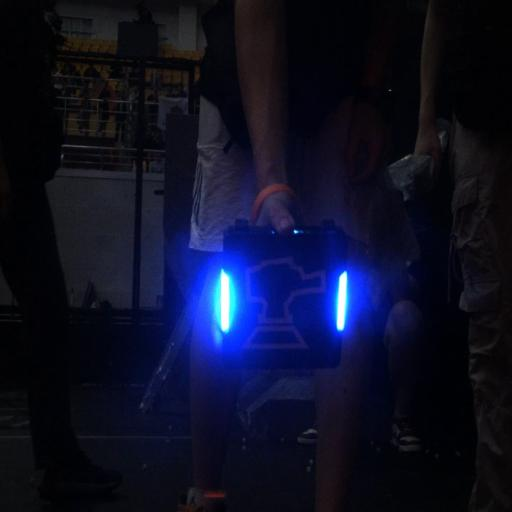target: (215, 226, 352, 378)
